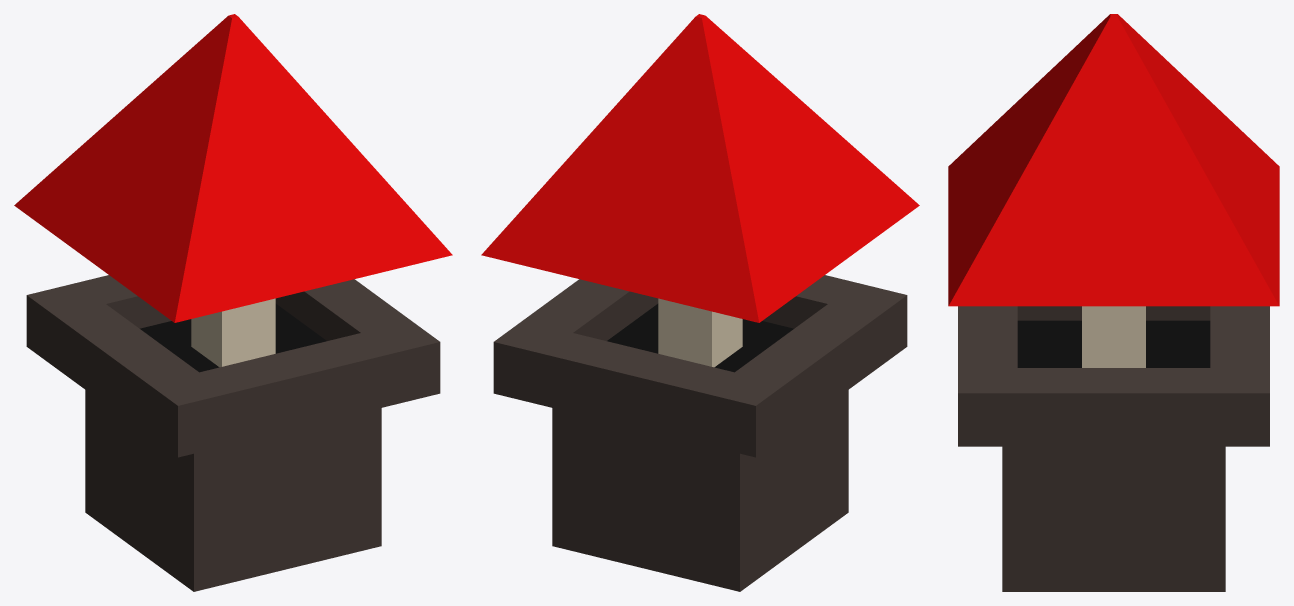
File: 096 Plants.fbx
3 views of the same model, side by side, from view 1: azimuth 30°, elevation 25°; view 2: azimuth 150°, elevation 25°; view 3: azimuth 270°, elevation 25° (orthographic). The views are drawn at different scales.
Visible parts, largest first — view 1: Lowpoly_Christmas_Pack_096:pCube1; view 2: Lowpoly_Christmas_Pack_096:pCube1; view 3: Lowpoly_Christmas_Pack_096:pCube1.
Part boxes in pixels (x1,y1,x2,y2): Lowpoly_Christmas_Pack_096:pCube1: [14, 14, 452, 591]; Lowpoly_Christmas_Pack_096:pCube1: [481, 14, 919, 591]; Lowpoly_Christmas_Pack_096:pCube1: [948, 14, 1279, 591].
Size of the model in its own units: 0.8391 by 1.48 by 0.8391.
